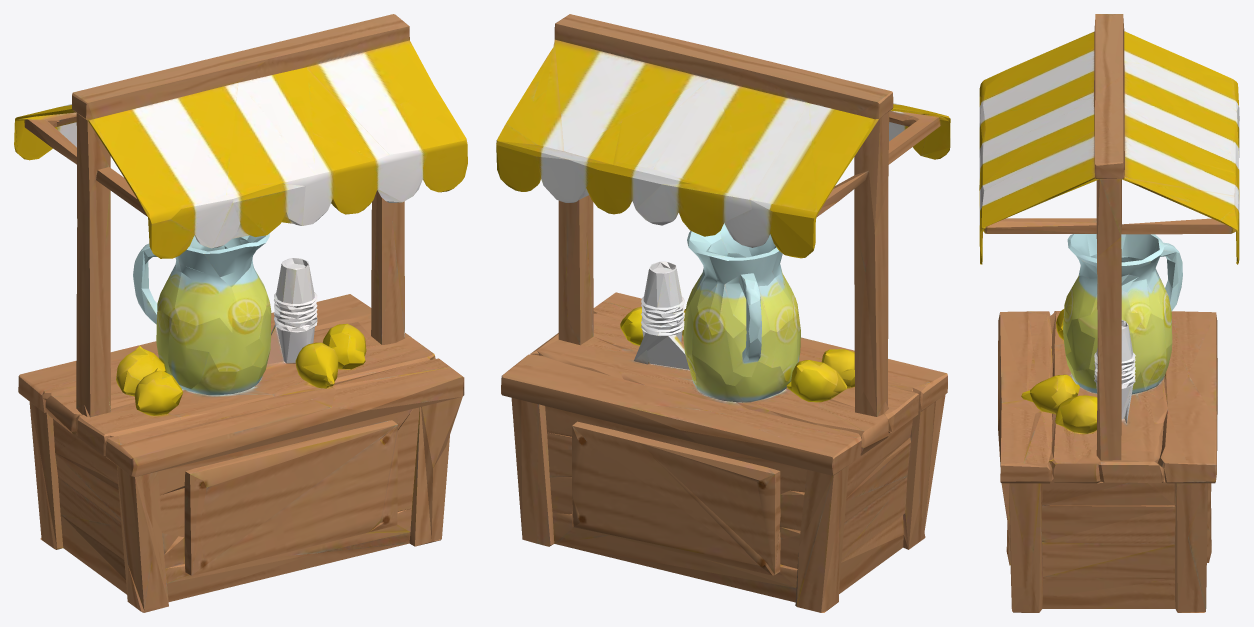
File: lemon_stand.glb
3 renders of one model, left to right at view 1: azimuth 30°, elevation 25°; view 2: azimuth 150°, elevation 25°; view 3: azimuth 270°, elevation 25°, orthographic. The views are drawn at different scales.
Size of the model in its own units: 2 by 2.75 by 1.42.
Materials: 1 (1 with a texture image).
